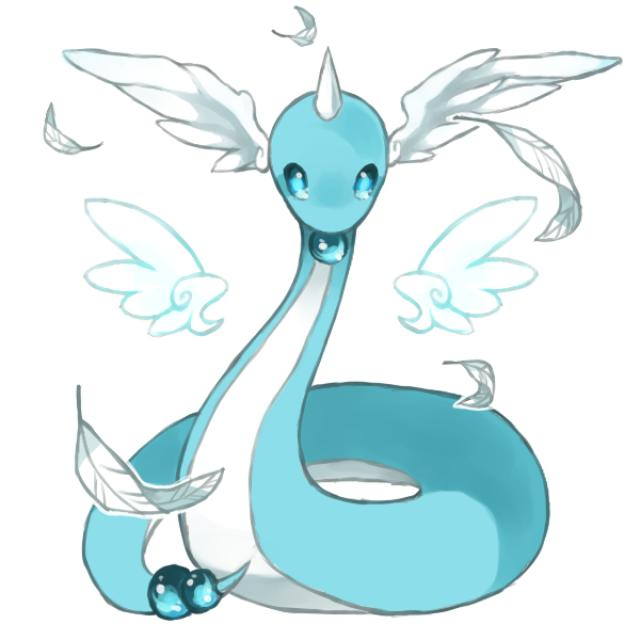Dragonair: (58, 38, 556, 611)
